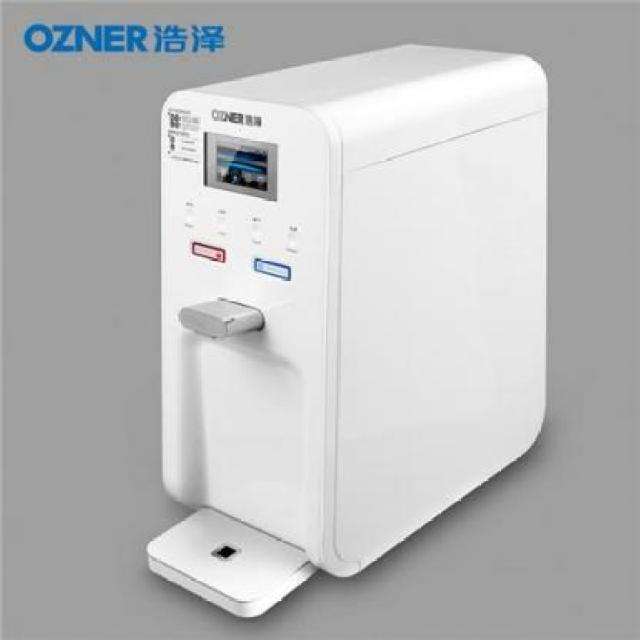cooler: (142, 41, 550, 622)
